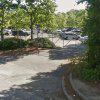Tree: (3, 0, 71, 44)
